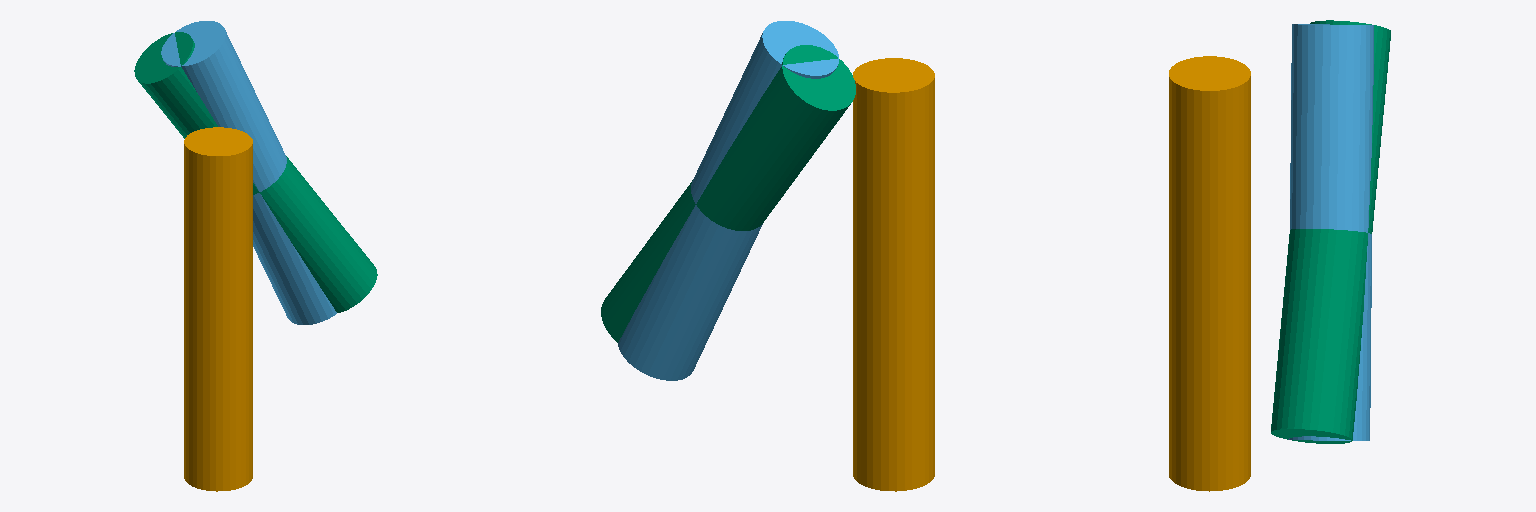
URDF robot description (pepe):
<?xml version="1.0"?><robot name="pepe">
	<link name="0">
		<visual>
			<geometry>
				<cylinder length="2.9997" radius="0.2802727606231159"/>
			</geometry>
		</visual>
		<collision>
			<geometry>
				<cylinder length="2.9997" radius="0.2802727606231159"/>
			</geometry>
		</collision>
		<inertial>
			<mass value="0.7402688556765359"/>
			<inertia ixx="0.03" iyy="0.03" izz="0.03" ixy="0" ixz="0" iyx="0"/>
		</inertial>
	</link>
	<link name="11">
		<visual>
			<geometry>
				<cylinder length="2.8219324425915286" radius="0.2802727606231159"/>
			</geometry>
		</visual>
		<collision>
			<geometry>
				<cylinder length="2.8219324425915286" radius="0.2802727606231159"/>
			</geometry>
		</collision>
		<inertial>
			<mass value="0.6963992066119021"/>
			<inertia ixx="0.03" iyy="0.03" izz="0.03" ixy="0" ixz="0" iyx="0"/>
		</inertial>
	</link>
	<link name="12">
		<visual>
			<geometry>
				<cylinder length="2.8219324425915286" radius="0.2802727606231159"/>
			</geometry>
		</visual>
		<collision>
			<geometry>
				<cylinder length="2.8219324425915286" radius="0.2802727606231159"/>
			</geometry>
		</collision>
		<inertial>
			<mass value="0.6963992066119021"/>
			<inertia ixx="0.03" iyy="0.03" izz="0.03" ixy="0" ixz="0" iyx="0"/>
		</inertial>
	</link>
	<joint name="11_to_0" type="revolute">
		<parent link="0"/>
		<child link="11"/>
		<axis xyz="0 0 1"/>
		<limit effort="1" upper="-3.1415" lower="3.1415" velocity="1"/>
		<origin rpy="5.8952369049848725 3.3106343739814474 4.297380134307079" xyz="0.8262303950921 0.8226883777035289 0.6965361425547957"/>
	</joint>
	<joint name="12_to_0" type="revolute">
		<parent link="0"/>
		<child link="12"/>
		<axis xyz="0 0 1"/>
		<limit effort="1" upper="-3.1415" lower="3.1415" velocity="1"/>
		<origin rpy="8.842855357477308 3.3106343739814474 4.297380134307079" xyz="0.8262303950921 0.8226883777035289 0.6965361425547957"/>
	</joint>
</robot>

--- Render facts (derived) ---
3 views of the same robot in one strip: view 1: azimuth 30°, elevation 25°; view 2: azimuth 150°, elevation 25°; view 3: azimuth 270°, elevation 25° (orthographic).
Model pepe with 3 links and 2 joints (2 revolute), rooted at 0, posed all joints at 0.
Links seen in each view (by area): view 1: 0, 11, 12; view 2: 0, 11, 12; view 3: 0, 12, 11.
Boxes of the visible links, x1,y1,x2,y2 form: 0: (184, 127, 252, 491); 11: (161, 21, 336, 324); 12: (134, 32, 377, 312); 0: (853, 58, 934, 491); 11: (618, 21, 838, 380); 12: (601, 45, 855, 342); 0: (1169, 56, 1250, 491); 12: (1271, 20, 1390, 443); 11: (1288, 24, 1373, 440).
Bounding box of the posed robot: 2.13 × 1.51 × 3.6 m (x, y, z).
Geometry: primitives only (box / cylinder / sphere), no mesh files.
